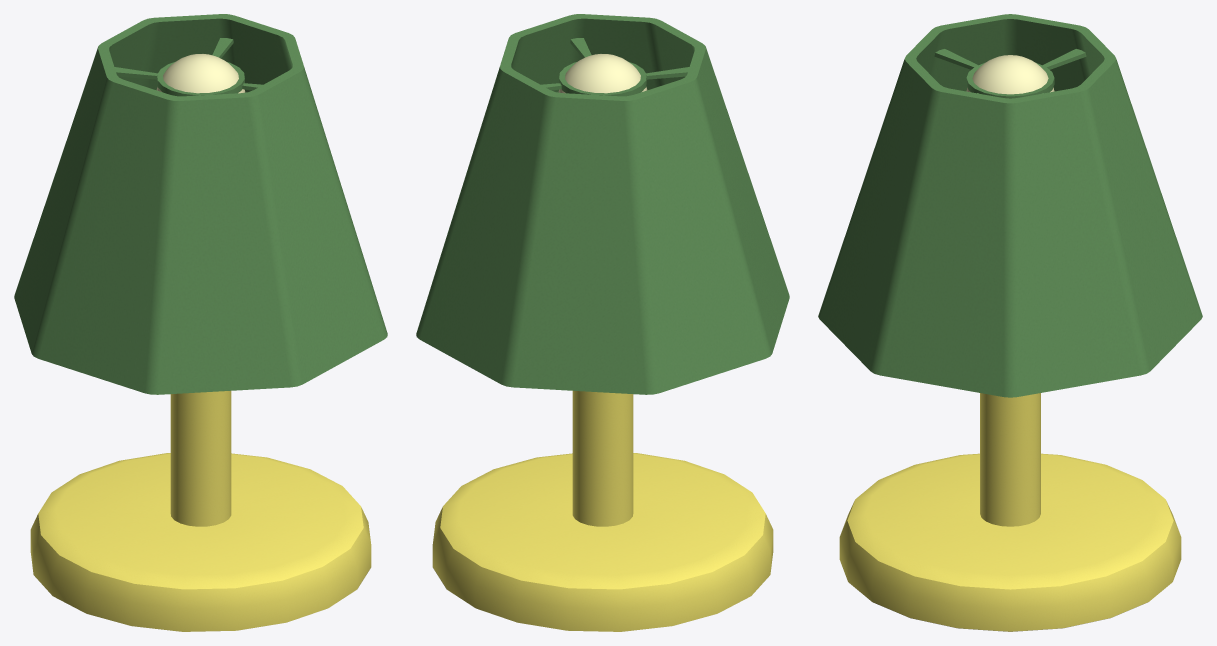
Rendered from lamp_M.fbx.
The picture shows the model from 3 angles, left to right: view 1: azimuth 30°, elevation 25°; view 2: azimuth 150°, elevation 25°; view 3: azimuth 270°, elevation 25°; orthographic projection.
Visible parts, largest first — view 1: lamp; view 2: lamp; view 3: lamp.
Boxes of the visible parts, <box> form: lamp: <box>14,14,387,631</box>; lamp: <box>416,14,789,631</box>; lamp: <box>818,14,1202,631</box>.
Bounding box in the file's own units: 0.0655 × 0.0941 × 0.0655.
